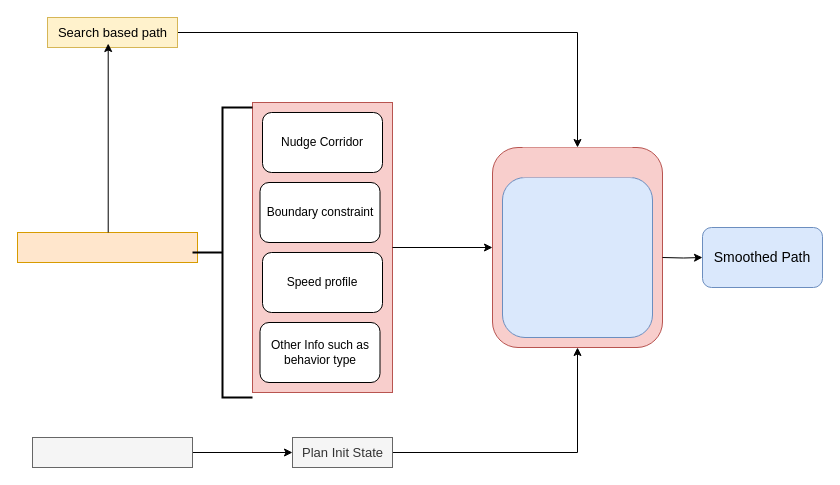
The diagram is 840 pixels wide and 485 high, and some of its shapes have lost their labels. Each missing label, with the centre of its shape:
"AL DDP Solver" goes at [577,162].
"DDP Solver state constraints state efforts attraction warmstart" goes at [577,257].
"Reasoning/ Agent Intention" goes at [107,247].
"WorldModel.RobotState" goes at [112,452].
